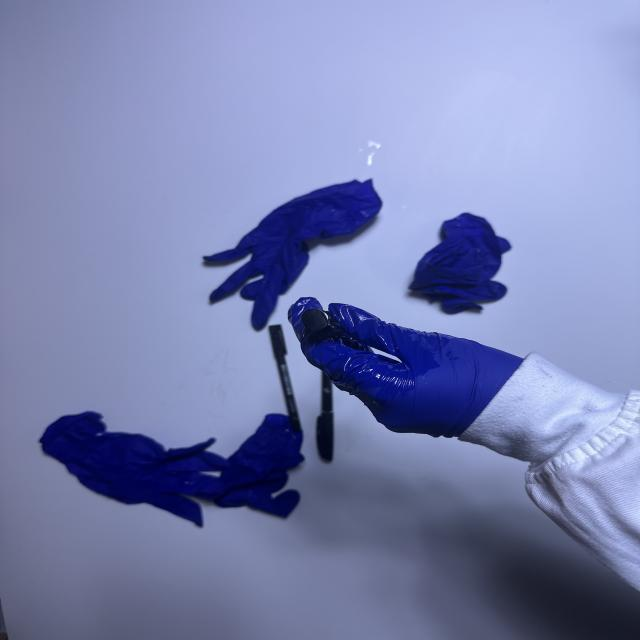gloves_contaminated: (288, 298, 522, 437)
